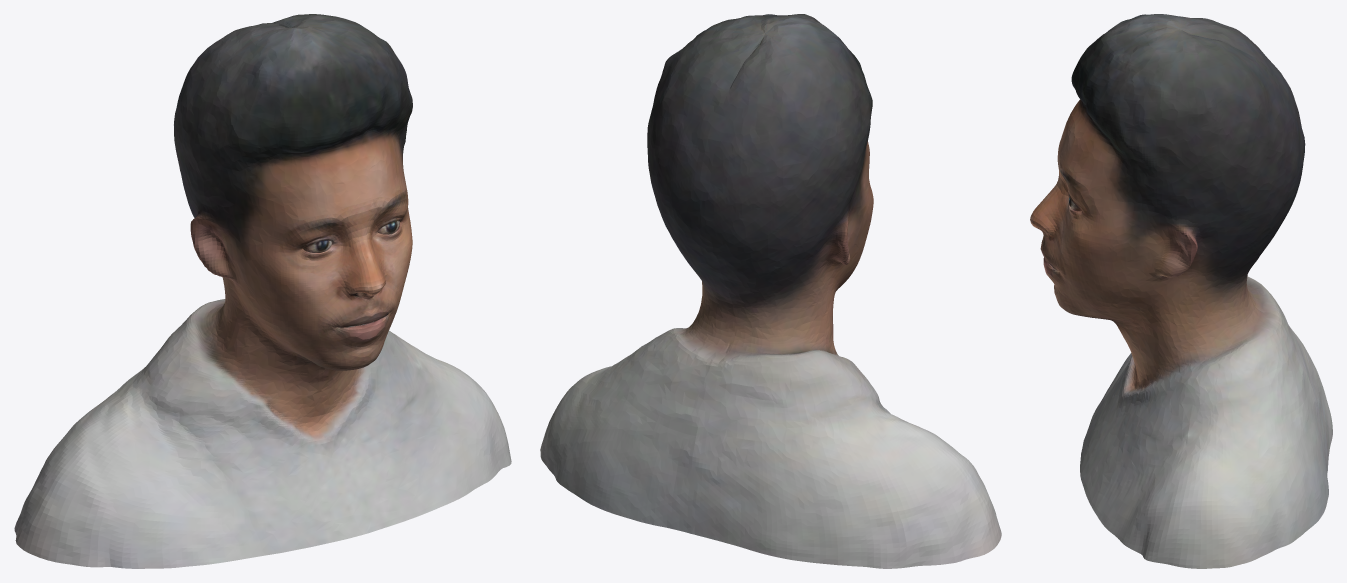
The picture shows the model from 3 angles, left to right: view 1: azimuth 30°, elevation 25°; view 2: azimuth 150°, elevation 25°; view 3: azimuth 270°, elevation 25°; orthographic projection. The views are drawn at different scales.
Visible parts, largest first — view 1: Node1; view 2: Node1; view 3: Node1.
Boxes of the visible parts, x1,y1,x2,y2 form: Node1: [14, 14, 511, 568]; Node1: [540, 14, 1001, 568]; Node1: [1030, 14, 1332, 568].
Size of the model in its own units: 0.4298 by 0.4145 by 0.255.
Materials: 1 (1 with a texture image).
